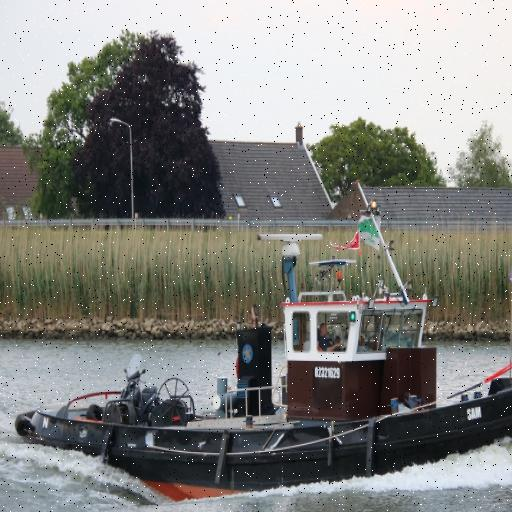tugboat: (12, 227, 512, 512)
